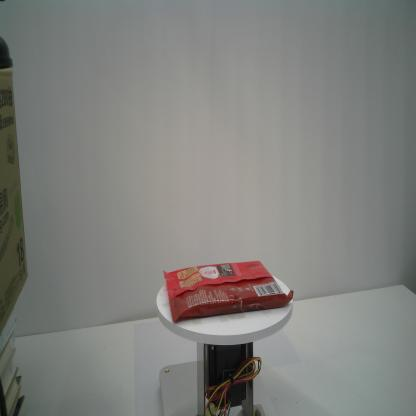Dessert: (163, 260, 294, 324)
